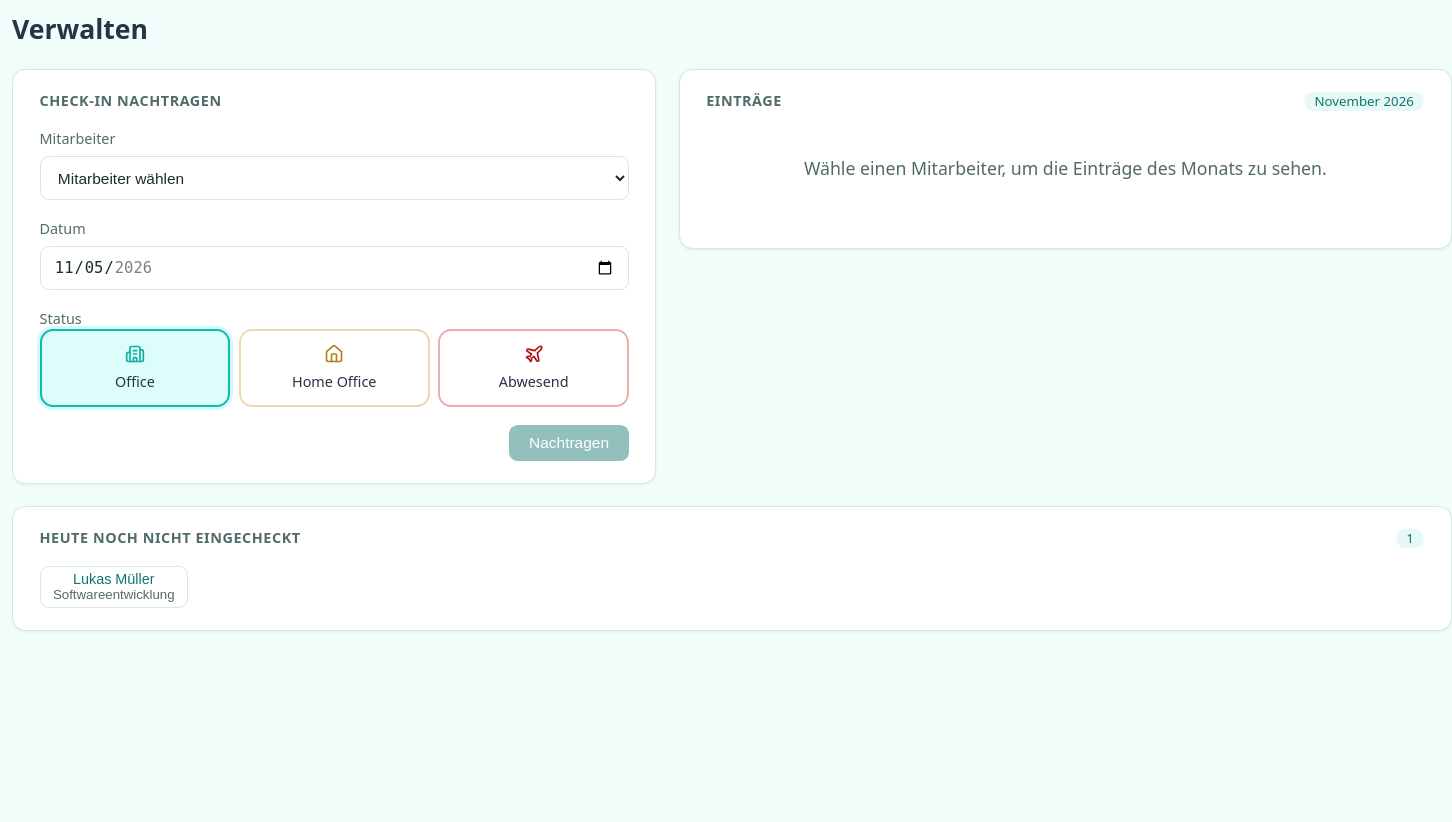
Scenario: Manage page: add and correct › offers "Nachtragen" when nothing exists for the day
The width and height of the screenshot is (1452, 822).
Select "Anna Adler" in the dropdown at coordinates (334, 178), box [40,156,629,200]
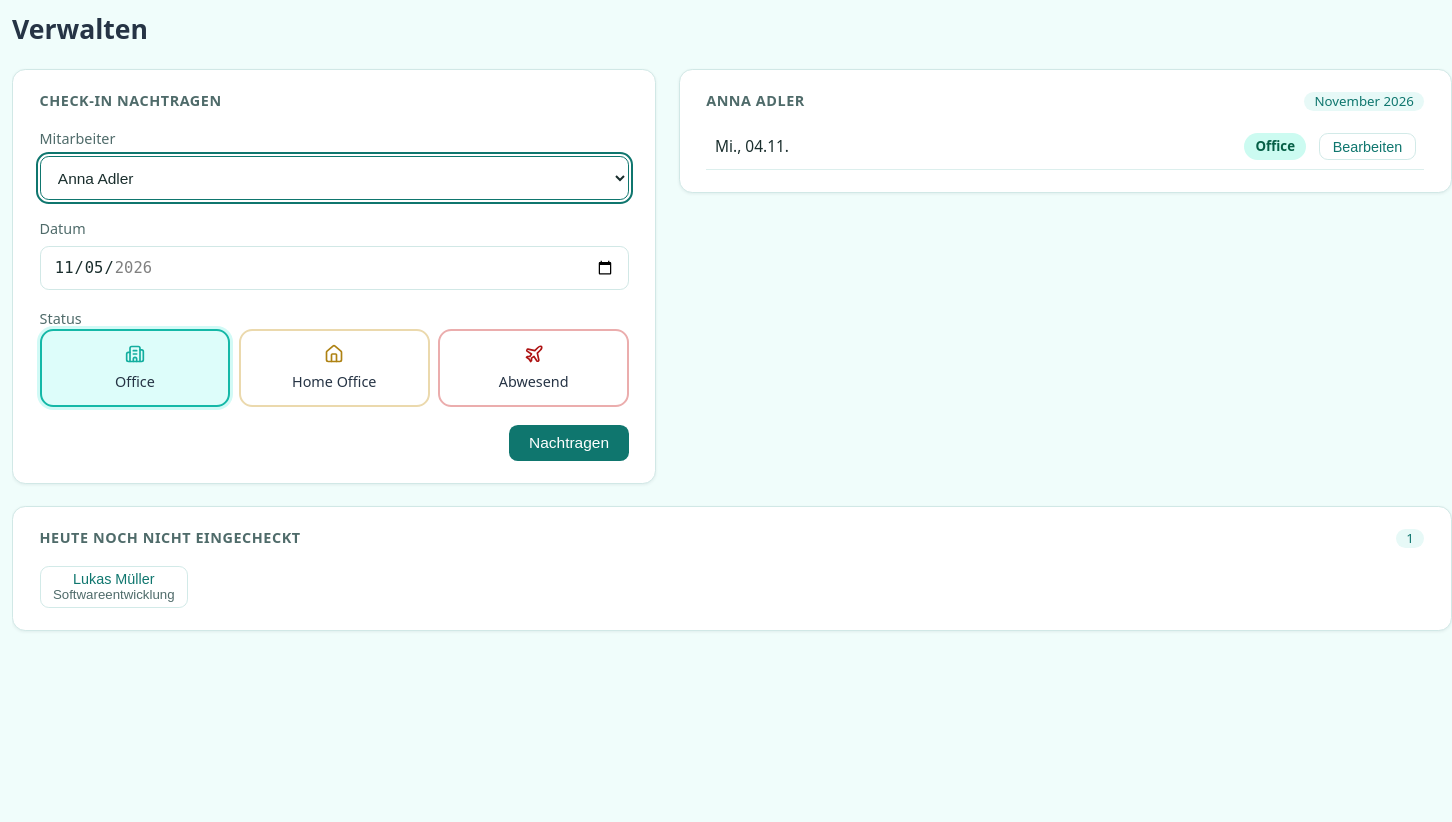
Expected: the button "Nachtragen" is enabled, [509,425,629,461]
